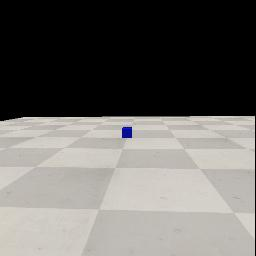box: (122, 127, 132, 138)
